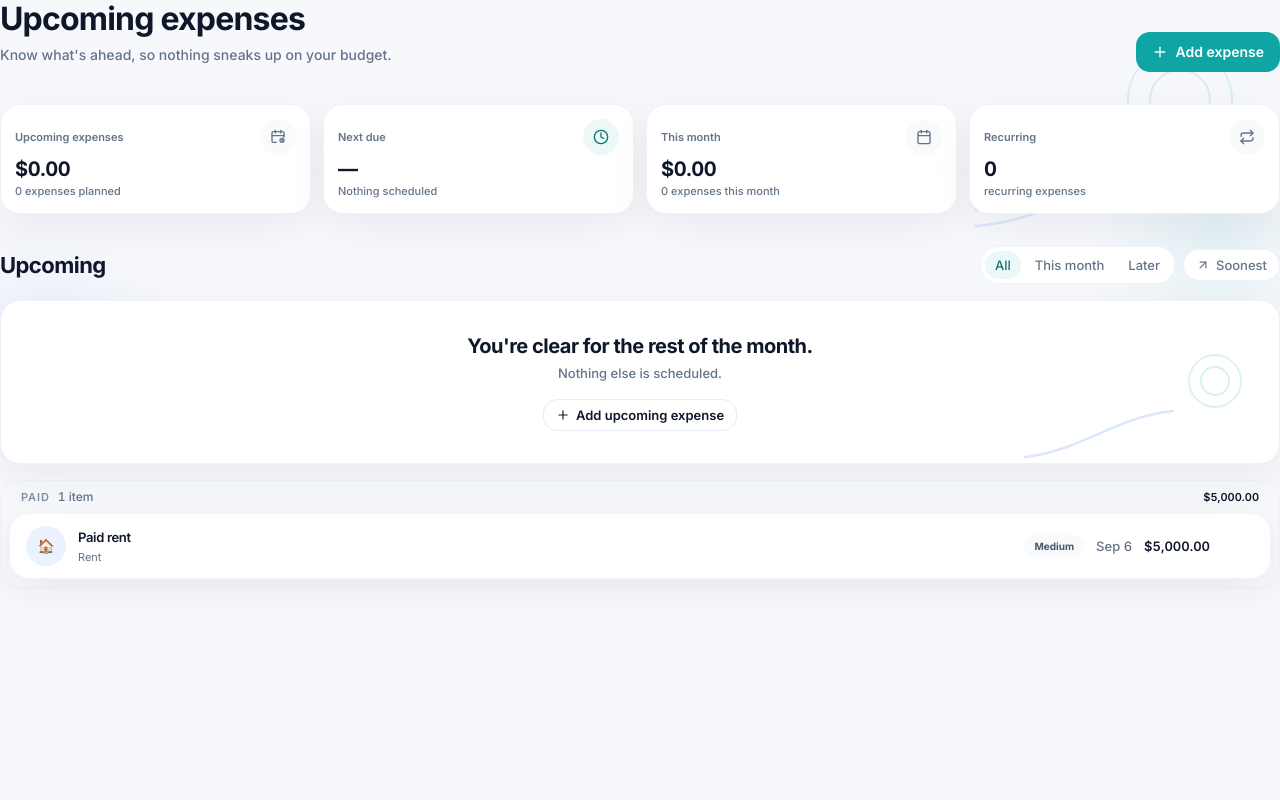
Scenario: UpcomingView › shows the clear-for-the-month empty state when everything is paid
Expected: the text "You're clear for the rest of the month." is shown, [467,333,813,359]
Expected: the text "Nothing else is scheduled." is shown, [558,363,722,383]
Click the button "Add upcoming expense" at [640, 415], box [543,399,737,431]
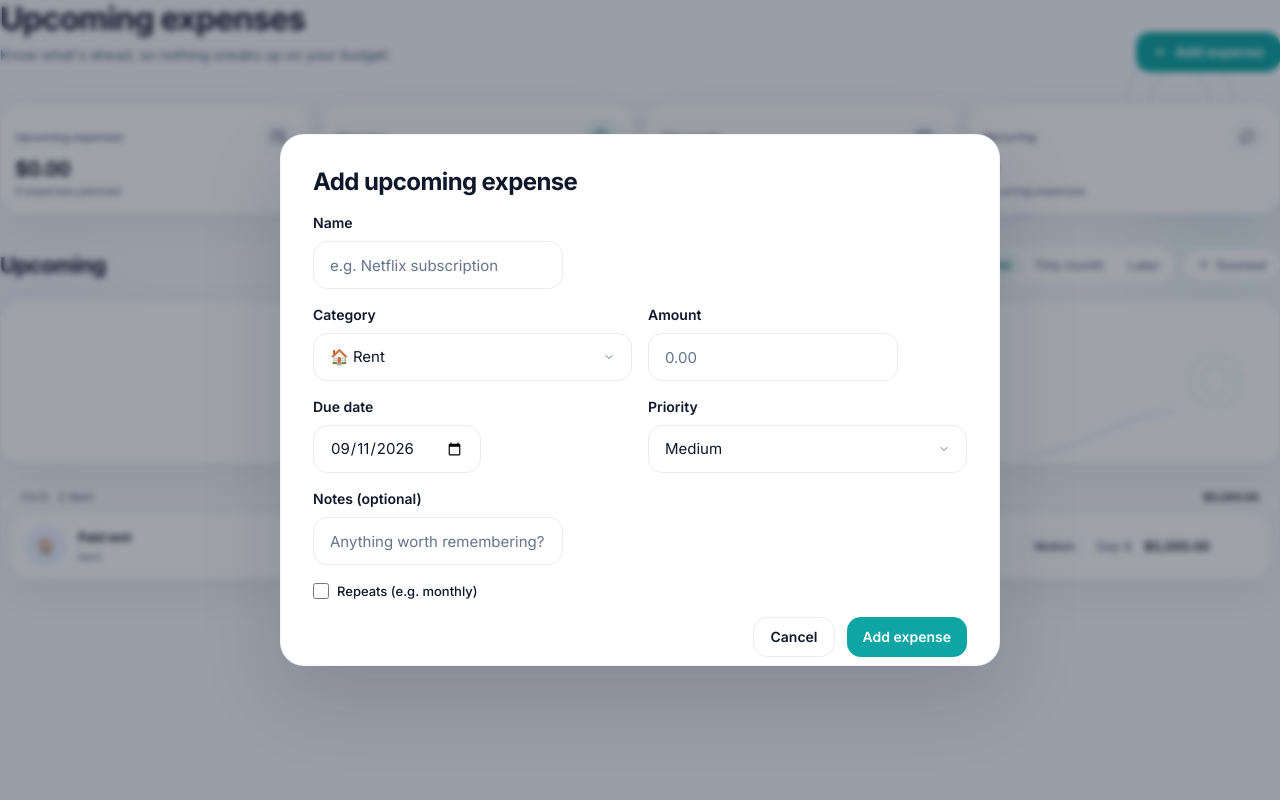
Now the dialog is shown, box [280,134,1000,666]
